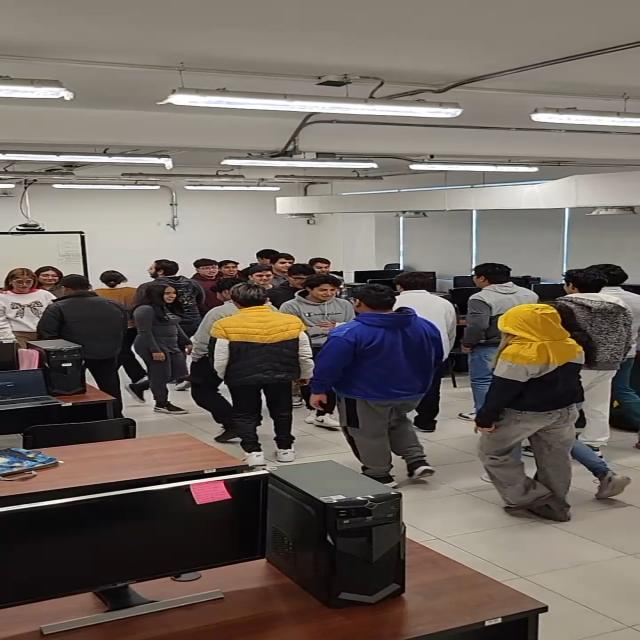Persona: (480, 304, 582, 490), (337, 288, 440, 471), (220, 289, 298, 446), (135, 284, 188, 410), (46, 282, 117, 368), (398, 266, 463, 338), (468, 252, 530, 317), (0, 268, 44, 350), (298, 280, 346, 334), (137, 250, 184, 293), (92, 270, 143, 306), (193, 258, 225, 302), (242, 266, 286, 294), (221, 259, 250, 276)
